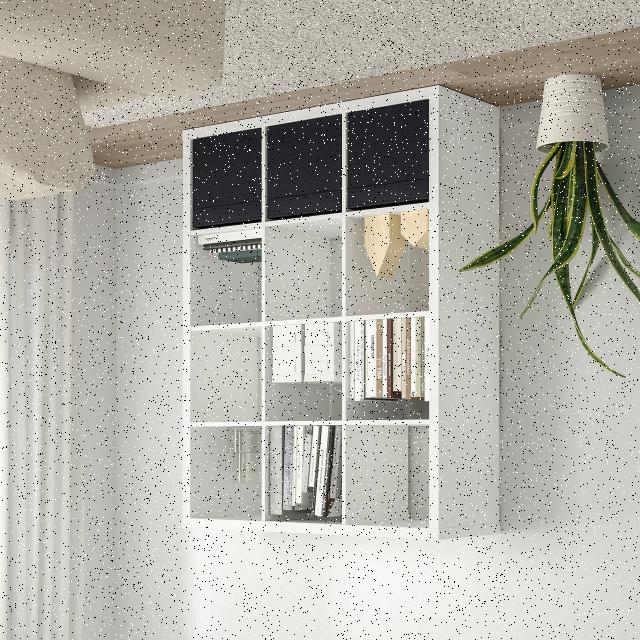Shelf: (178, 82, 512, 540)
